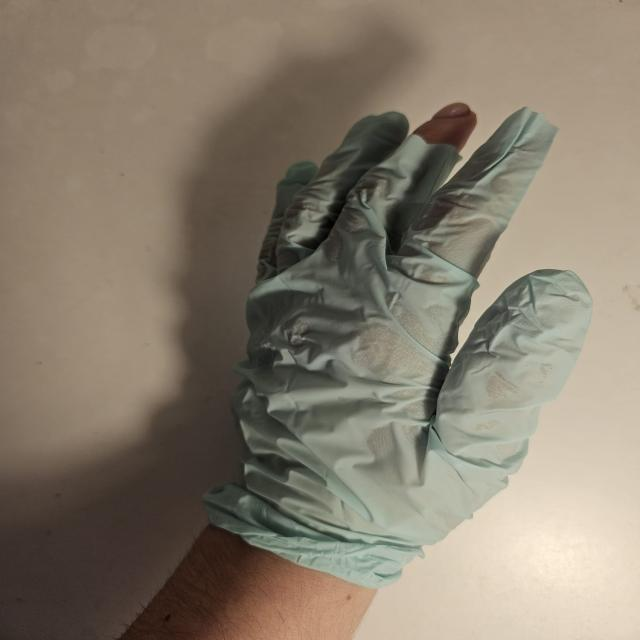gloves_damaged: (201, 98, 598, 592)
